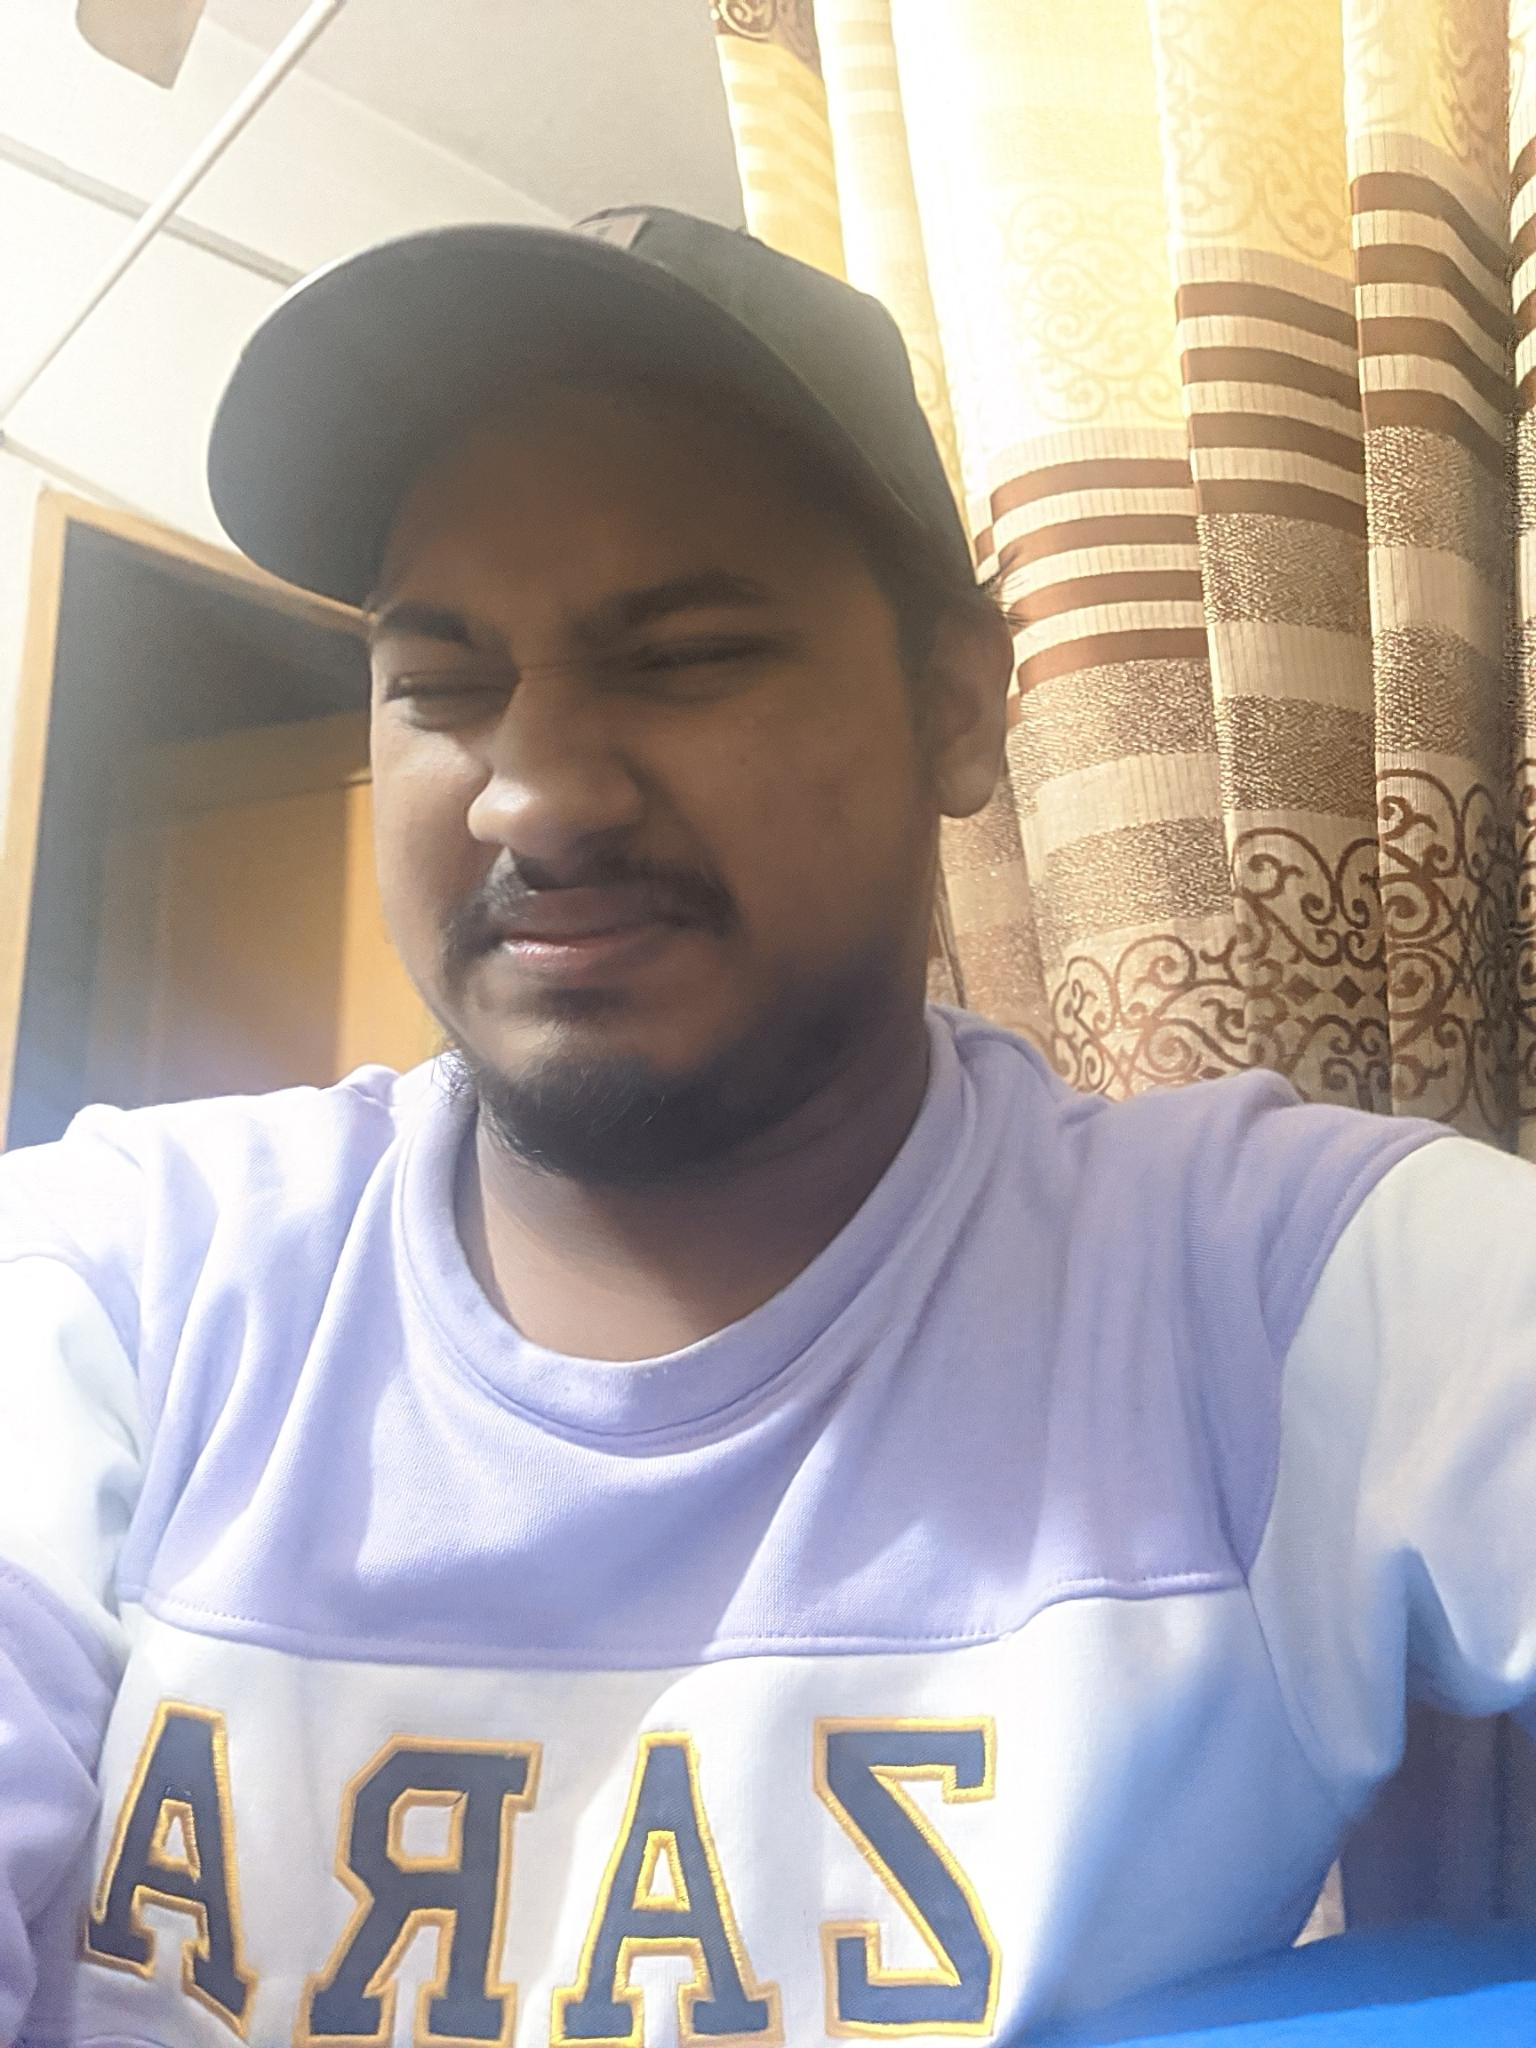Disgust: (290, 485, 887, 1134)
